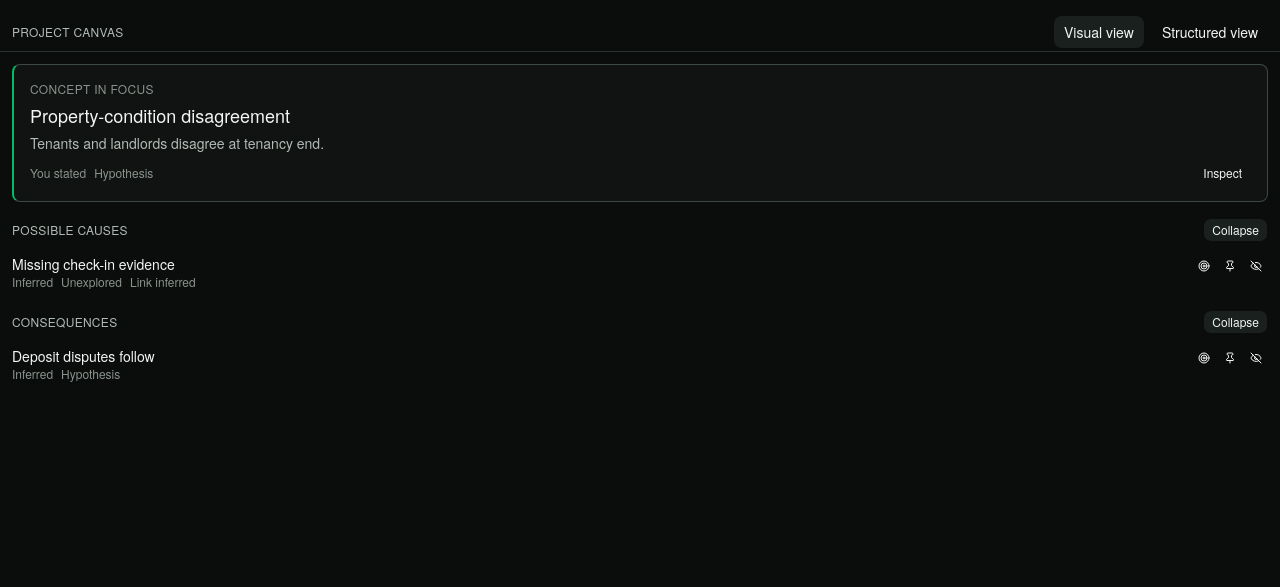
Test case: representation switch › switches to the structured inspector and back
Click the radio button labelled "Structured view" at (1210, 32), box [1152,16,1268,48]
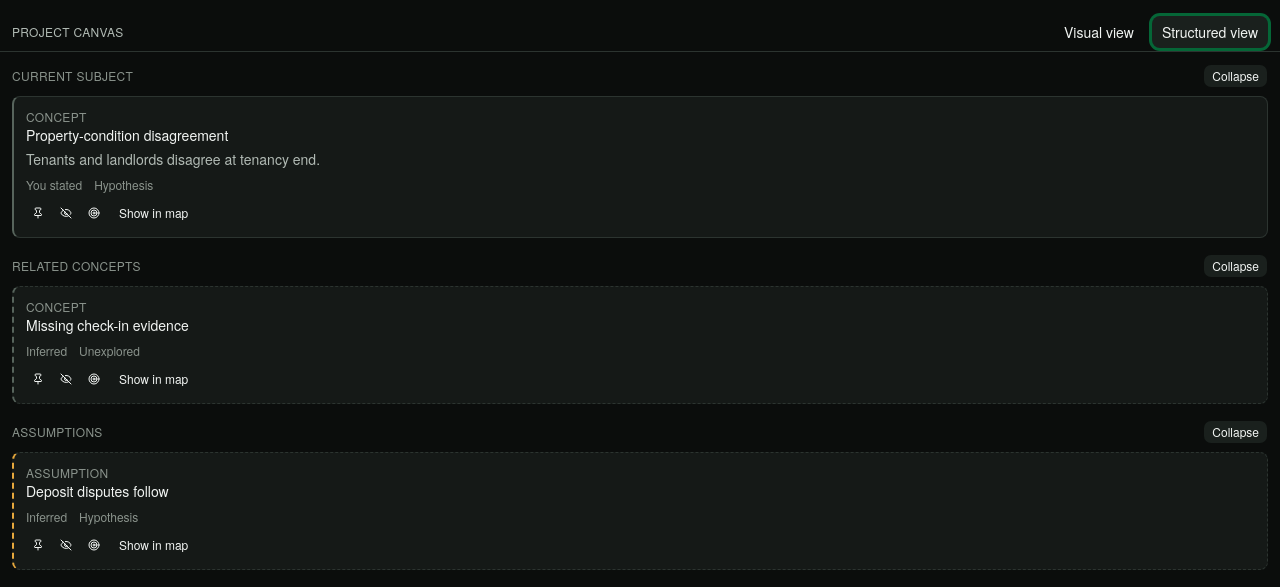
expect the element "Current subject" is shown: met, box [12,64,1268,238]
Click the radio button labelled "Visual view" at (1099, 32), box [1054,16,1144,48]
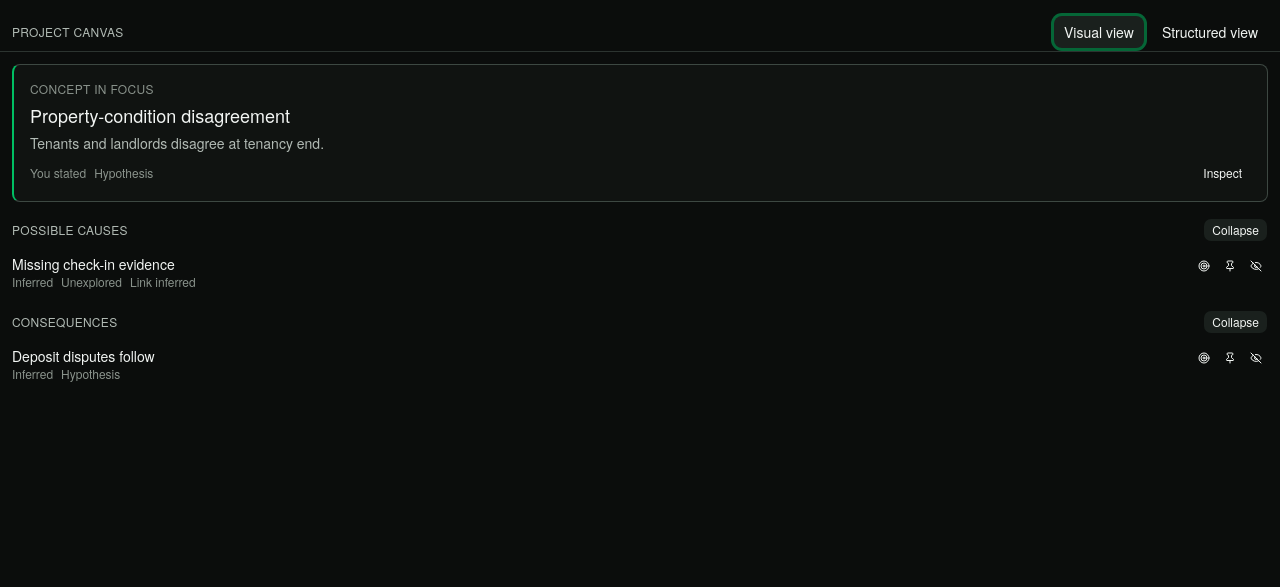
expect the element named "Object in focus" is shown: met, box [12,64,1268,202]
